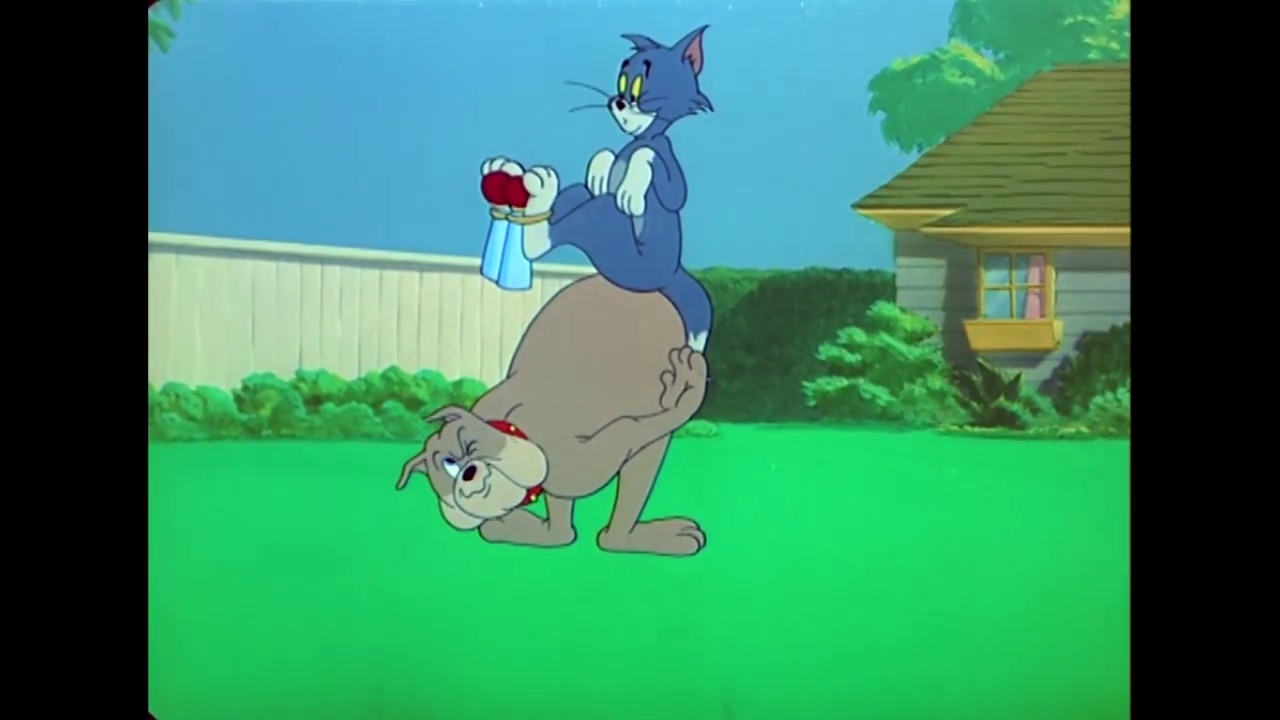spike: (396, 399, 554, 540)
tom: (596, 21, 715, 148)
